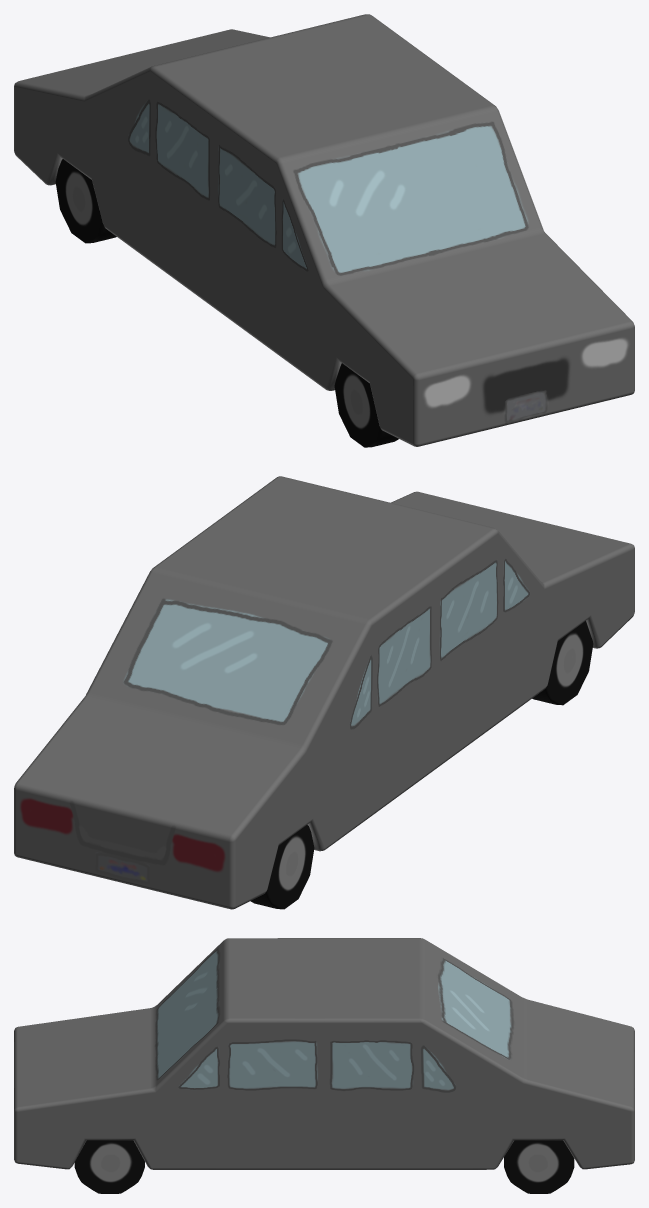
The model's file is car.fbx.
The picture shows the model from 3 angles, top to bottom: view 1: azimuth 30°, elevation 25°; view 2: azimuth 150°, elevation 25°; view 3: azimuth 270°, elevation 25°; orthographic projection. The views are drawn at different scales.
Visible parts, largest first — view 1: Car, Wheel; view 2: Car, Wheel; view 3: Car, Wheel.
Part boxes in pixels (x1=…): Car: x1=14, y1=14, x2=634, y2=446; Wheel: x1=55, y1=159, x2=398, y2=447; Car: x1=14, y1=476, x2=634, y2=909; Wheel: x1=250, y1=621, x2=593, y2=909; Car: x1=14, y1=938, x2=634, y2=1169; Wheel: x1=74, y1=1140, x2=574, y2=1193.
Size of the model in its own units: 2 by 6.3 by 1.99.
